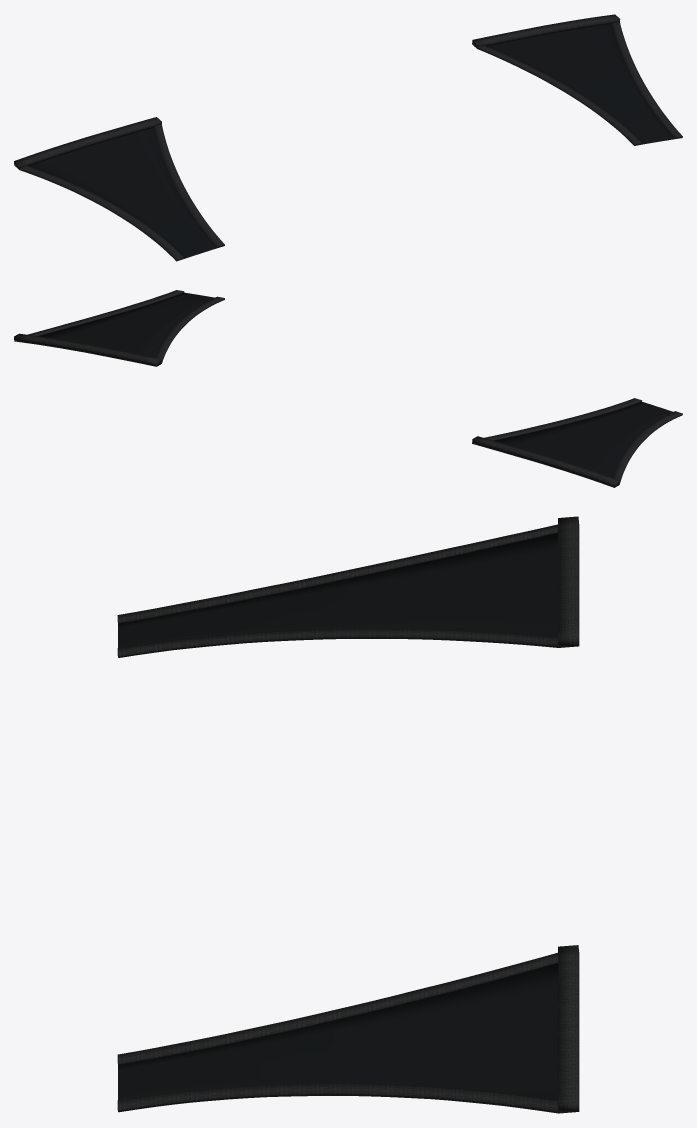
File: DT72_naca_ducts.glb
The picture shows the model from 3 angles, top to bottom: view 1: azimuth 30°, elevation 25°; view 2: azimuth 150°, elevation 25°; view 3: azimuth 270°, elevation 25°; orthographic projection. The views are drawn at different scales.
Parts seen in each view (by area): view 1: MOD_NC_DT72_recess_R, MOD_NC_DT72_recess_L, MOD_NC_DT72_lip_R, MOD_NC_DT72_lip_L, MOD_NC_DT72_surround_Ro, MOD_NC_DT72_surround_Li, MOD_NC_DT72_surround_Ri, MOD_NC_DT72_surround_Lo; view 2: MOD_NC_DT72_recess_R, MOD_NC_DT72_recess_L, MOD_NC_DT72_lip_R, MOD_NC_DT72_lip_L, MOD_NC_DT72_surround_Ri, MOD_NC_DT72_surround_Lo, MOD_NC_DT72_surround_Ro, MOD_NC_DT72_surround_Li; view 3: MOD_NC_DT72_recess_L, MOD_NC_DT72_recess_R, MOD_NC_DT72_surround_Lo, MOD_NC_DT72_surround_Li, MOD_NC_DT72_surround_Ri, MOD_NC_DT72_surround_Ro, MOD_NC_DT72_lip_L, MOD_NC_DT72_lip_R.
Boxes of the visible parts, bbox=[...] form: MOD_NC_DT72_recess_R: bbox=[29, 128, 216, 258]; MOD_NC_DT72_recess_L: bbox=[487, 24, 674, 144]; MOD_NC_DT72_lip_R: bbox=[14, 117, 161, 169]; MOD_NC_DT72_lip_L: bbox=[472, 14, 620, 48]; MOD_NC_DT72_surround_Ro: bbox=[19, 166, 184, 261]; MOD_NC_DT72_surround_Li: bbox=[477, 46, 642, 145]; MOD_NC_DT72_surround_Ri: bbox=[154, 124, 224, 247]; MOD_NC_DT72_surround_Lo: bbox=[612, 22, 682, 138]; MOD_NC_DT72_recess_R: bbox=[494, 402, 672, 477]; MOD_NC_DT72_recess_L: bbox=[38, 292, 214, 357]; MOD_NC_DT72_lip_R: bbox=[472, 436, 620, 487]; MOD_NC_DT72_lip_L: bbox=[14, 333, 161, 366]; MOD_NC_DT72_surround_Ri: bbox=[484, 398, 642, 440]; MOD_NC_DT72_surround_Lo: bbox=[28, 290, 184, 335]; MOD_NC_DT72_surround_Ro: bbox=[613, 411, 682, 482]; MOD_NC_DT72_surround_Li: bbox=[155, 296, 224, 363]; MOD_NC_DT72_recess_L: bbox=[118, 963, 557, 1100]; MOD_NC_DT72_recess_R: bbox=[118, 533, 557, 647]; MOD_NC_DT72_surround_Lo: bbox=[117, 1084, 558, 1113]; MOD_NC_DT72_surround_Li: bbox=[117, 952, 557, 1065]; MOD_NC_DT72_surround_Ri: bbox=[117, 628, 558, 657]; MOD_NC_DT72_surround_Ro: bbox=[117, 524, 557, 623]; MOD_NC_DT72_lip_L: bbox=[558, 945, 579, 1113]; MOD_NC_DT72_lip_R: bbox=[558, 516, 579, 647].
Size of the model in its own units: 0.9456 by 0.0559 by 0.3145.
Materials: 2 (1 with a texture image).
